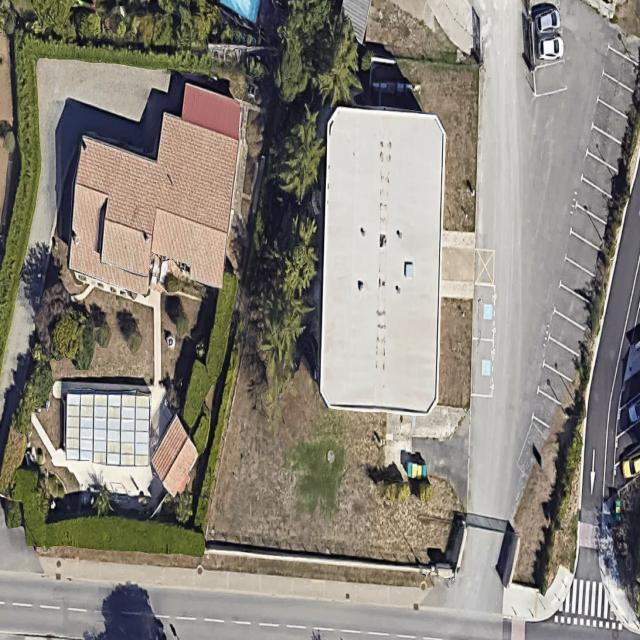immeuble: (317, 107, 447, 414)
maison: (64, 75, 243, 301), (141, 414, 214, 499)
